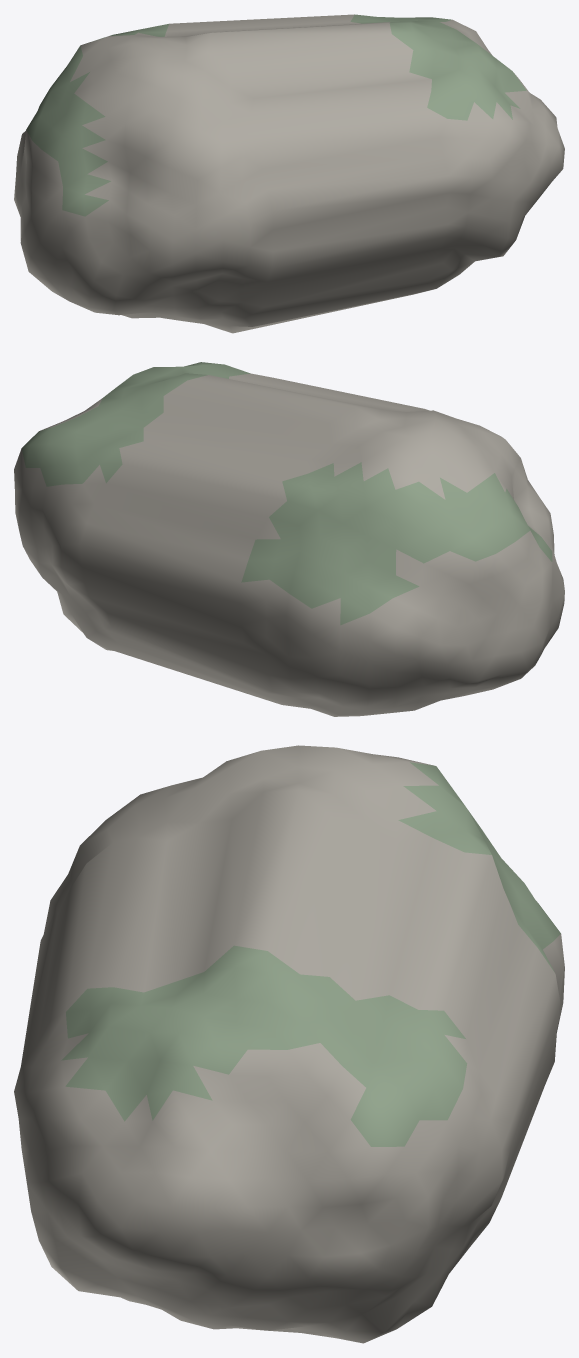
File: rock-cleft.gltf
3 views of the same model, one above another, from view 1: azimuth 30°, elevation 25°; view 2: azimuth 150°, elevation 25°; view 3: azimuth 270°, elevation 25° (orthographic). The views are drawn at different scales.
Visible parts, largest first — view 1: rock-cleft; view 2: rock-cleft; view 3: rock-cleft.
Boxes of the visible parts, bbox=[...] form: rock-cleft: bbox=[14, 14, 564, 333]; rock-cleft: bbox=[14, 362, 564, 716]; rock-cleft: bbox=[14, 745, 564, 1343].
Size of the model in its own units: 16 by 8.73 by 10.45.
